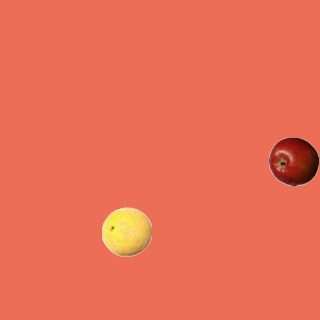Apple Braeburn: (268, 136, 318, 186)
Cantaloupe 1: (101, 206, 151, 256)
